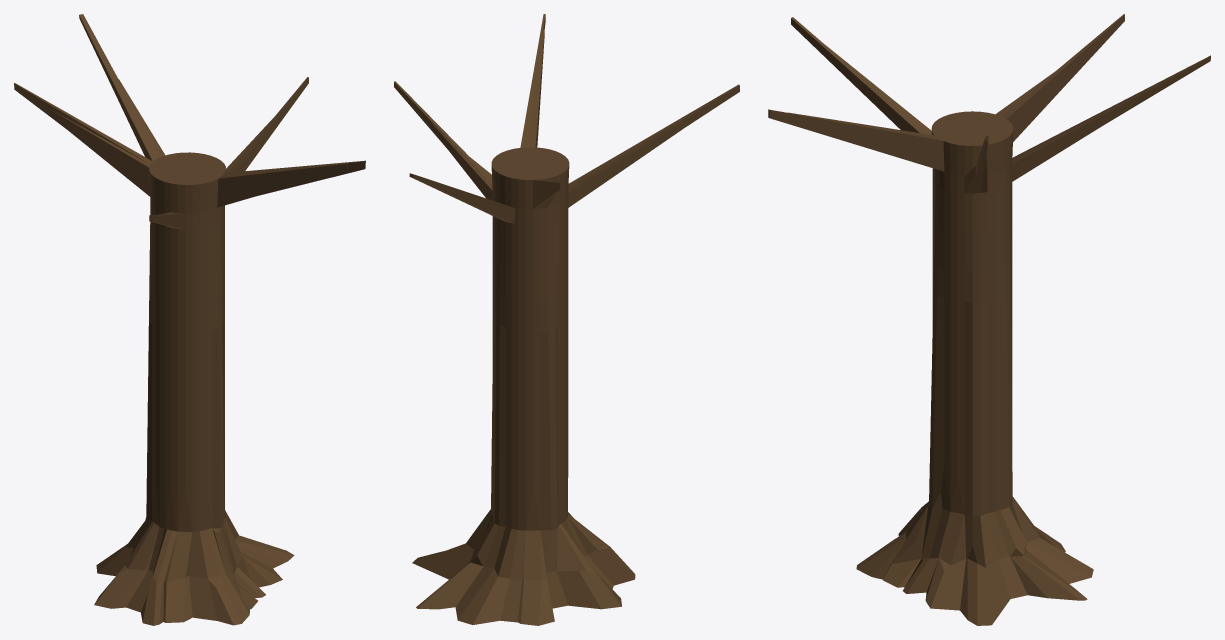
File: Tree (1).fbx
The picture shows the model from 3 angles, left to right: view 1: azimuth 30°, elevation 25°; view 2: azimuth 150°, elevation 25°; view 3: azimuth 270°, elevation 25°; orthographic projection. The views are drawn at different scales.
Parts seen in each view (by area): view 1: Cylinder; view 2: Cylinder; view 3: Cylinder.
Boxes of the visible parts, bbox=[...] form: Cylinder: bbox=[14, 14, 365, 625]; Cylinder: bbox=[394, 14, 739, 625]; Cylinder: bbox=[768, 14, 1210, 625].
Size of the model in its own units: 773 by 1433 by 1114.
